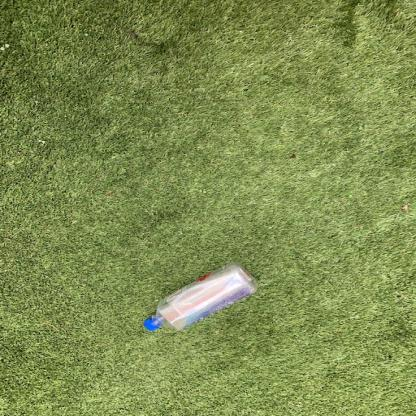trash: (139, 261, 265, 333)
